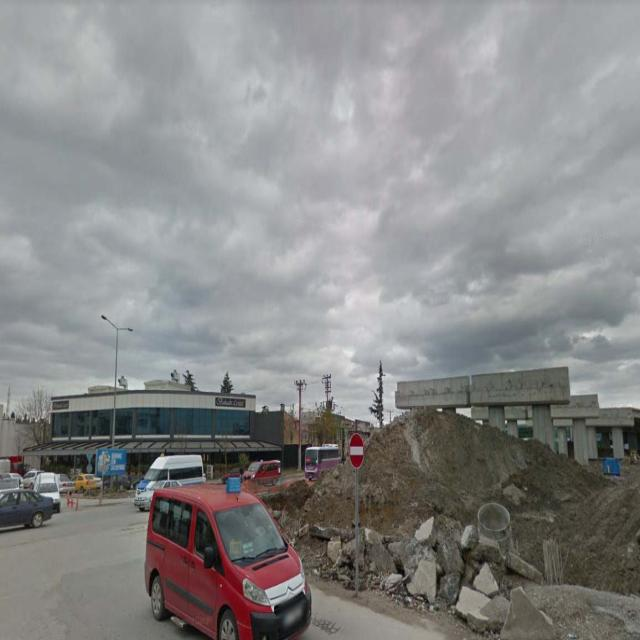girisyok: (348, 433, 366, 471)
